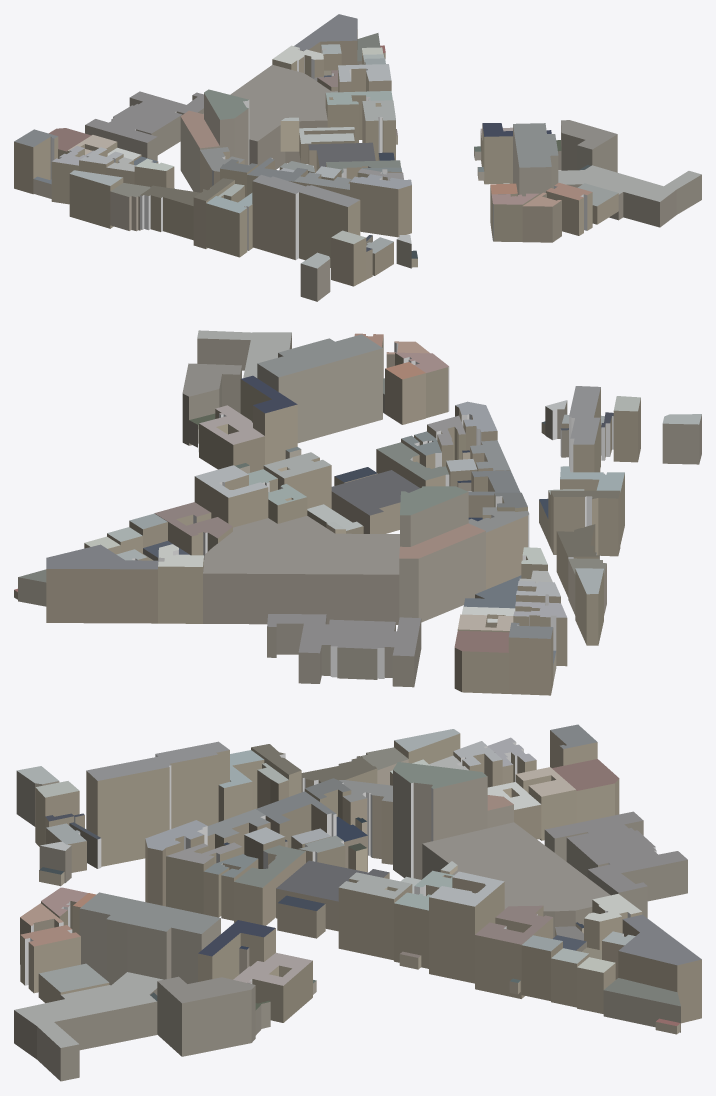
3 renders of one model, top to bottom at view 1: azimuth 30°, elevation 25°; view 2: azimuth 150°, elevation 25°; view 3: azimuth 270°, elevation 25°, orthographic. The views are drawn at different scales.
Visible parts, largest first — view 1: tuile; view 2: tuile; view 3: tuile.
Boxes of the visible parts, left/top/right/bottom form: tuile: left=14, top=14, right=701, bottom=301; tuile: left=14, top=330, right=701, bottom=695; tuile: left=14, top=724, right=701, bottom=1081.
Bounding box in the file's own units: 287 × 47.91 × 267.
